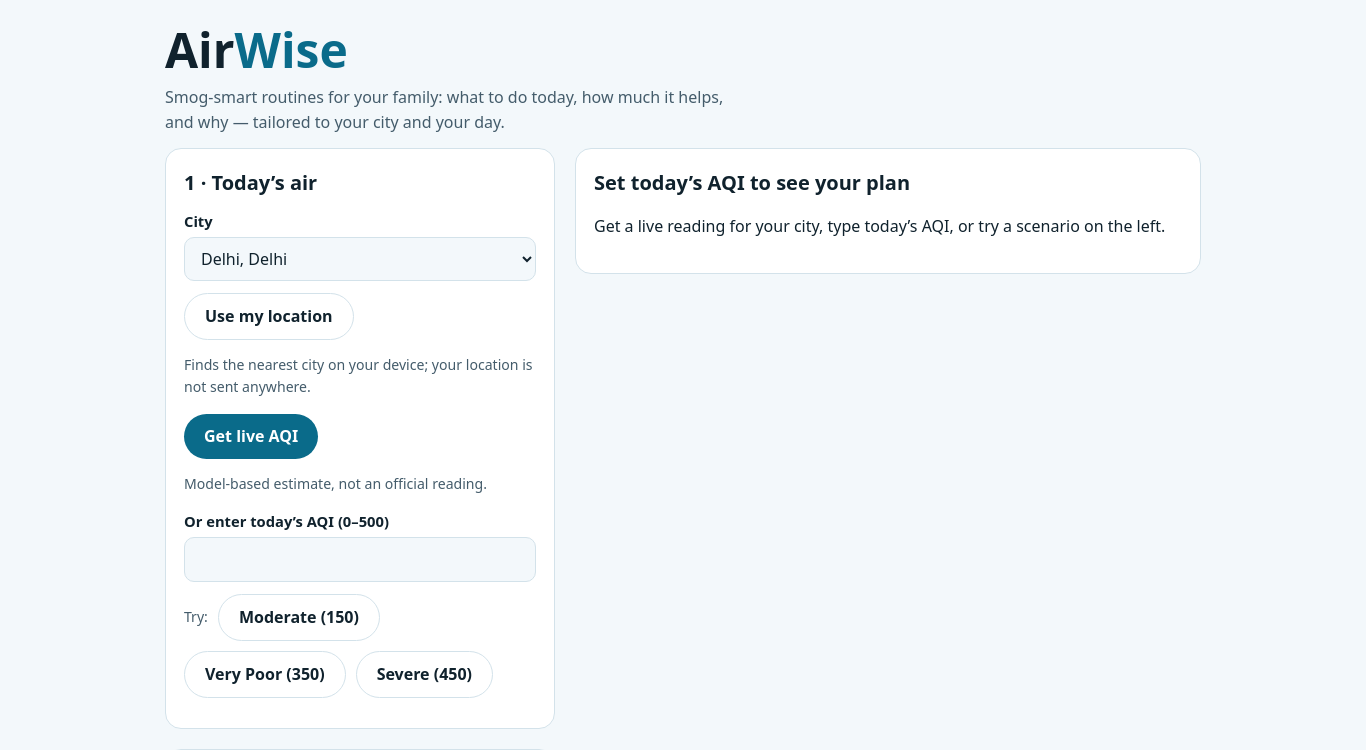
it: live air data › explains a failure and leaves manual entry available
Click the button "Get live AQI": (251, 436) [184, 414, 318, 458]
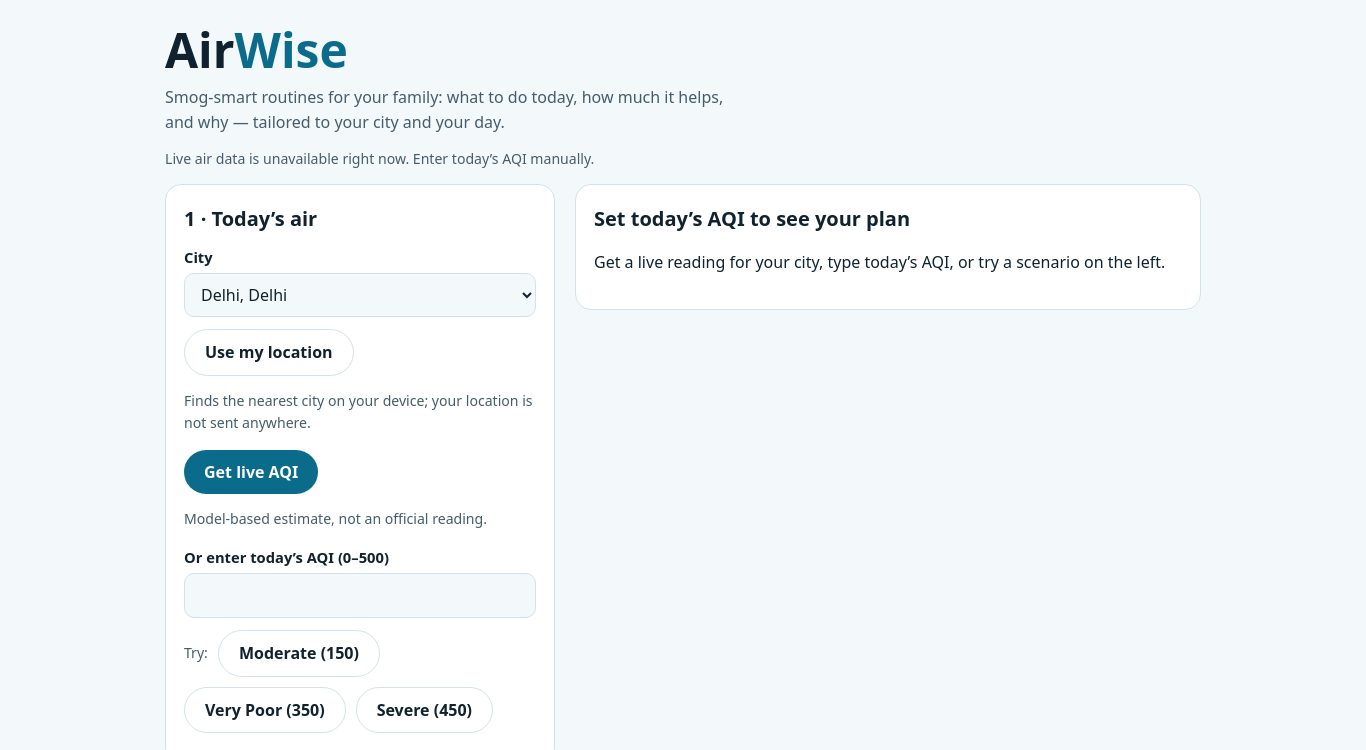
Now the text "Live air data is unavailable right now. Enter today’s AQI manually." is shown, box [165, 150, 594, 168]
Click the button "Moderate (150)": (299, 653) [218, 630, 380, 677]
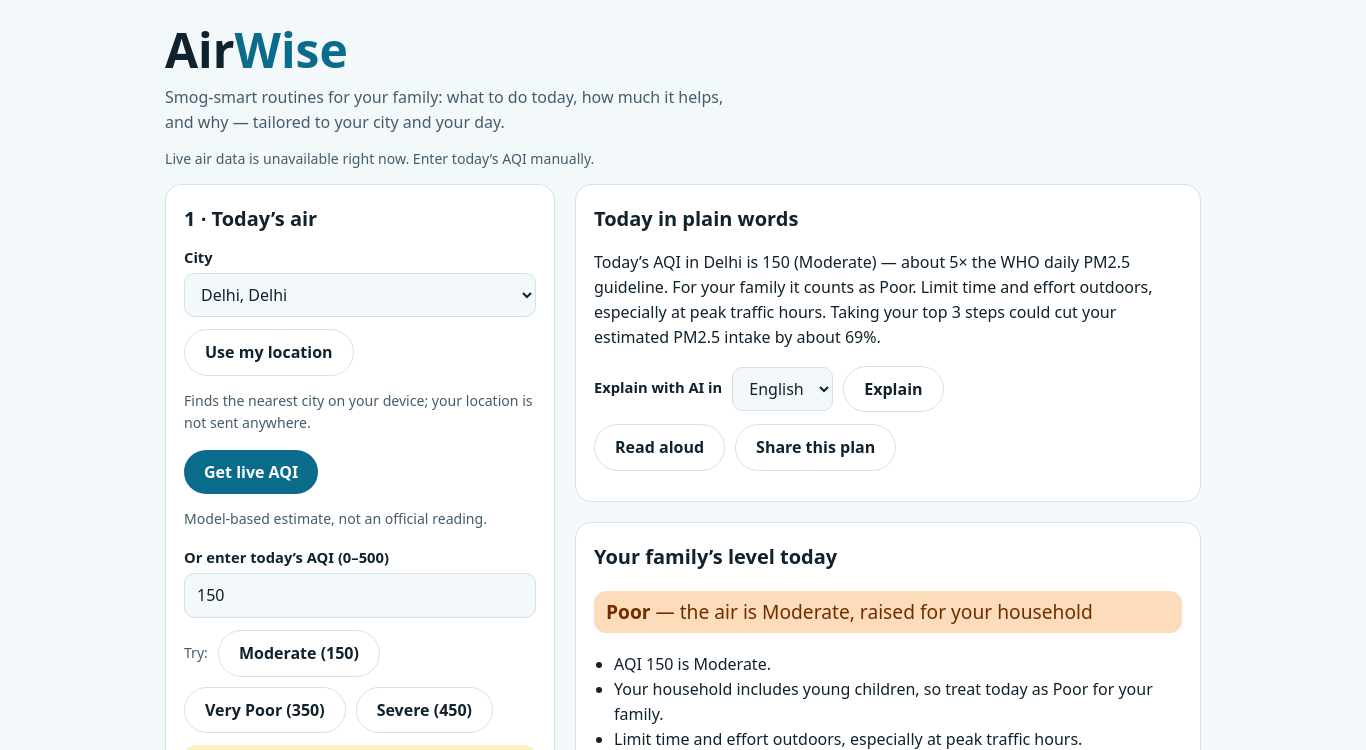
Now the heading "Your family’s level today" is shown, box [594, 543, 837, 570]
